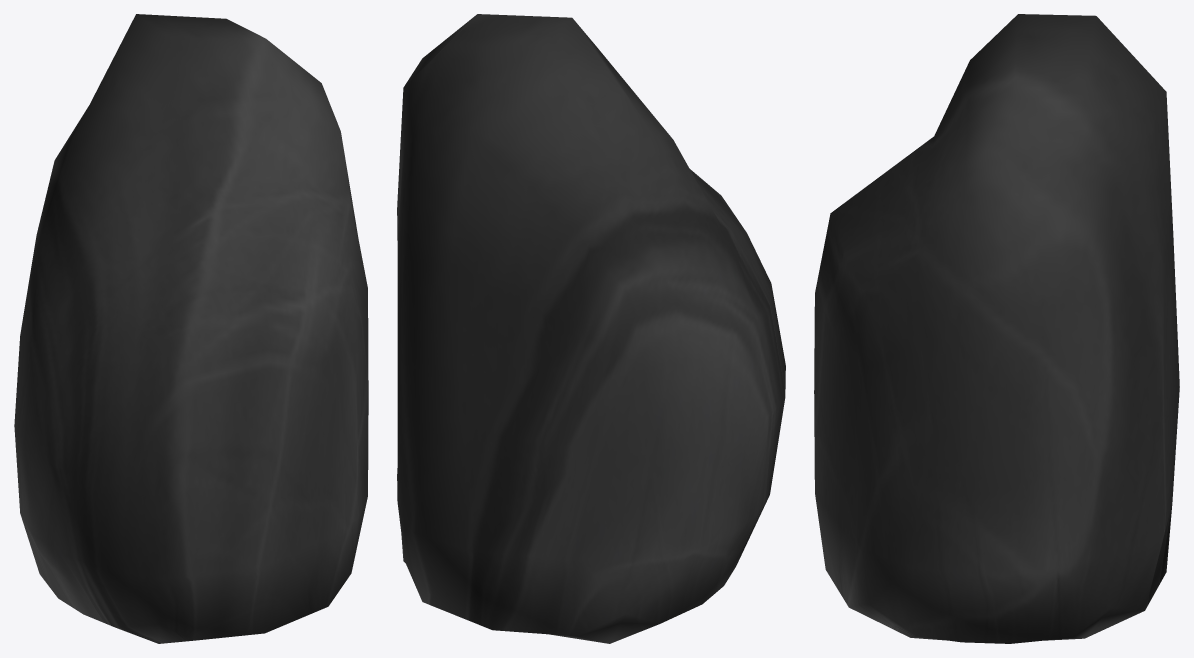
Rendered from RockyRock.fbx.
The picture shows the model from 3 angles, left to right: view 1: azimuth 30°, elevation 25°; view 2: azimuth 150°, elevation 25°; view 3: azimuth 270°, elevation 25°; orthographic projection. The views are drawn at different scales.
Visible parts, largest first — view 1: Stone1:pCube2; view 2: Stone1:pCube2; view 3: Stone1:pCube2.
Part boxes in pixels (x1,y1,x2,y2): Stone1:pCube2: (14, 14, 368, 643); Stone1:pCube2: (397, 14, 785, 643); Stone1:pCube2: (814, 14, 1179, 643).
Size of the model in its own units: 1.53 by 2.55 by 1.45.
